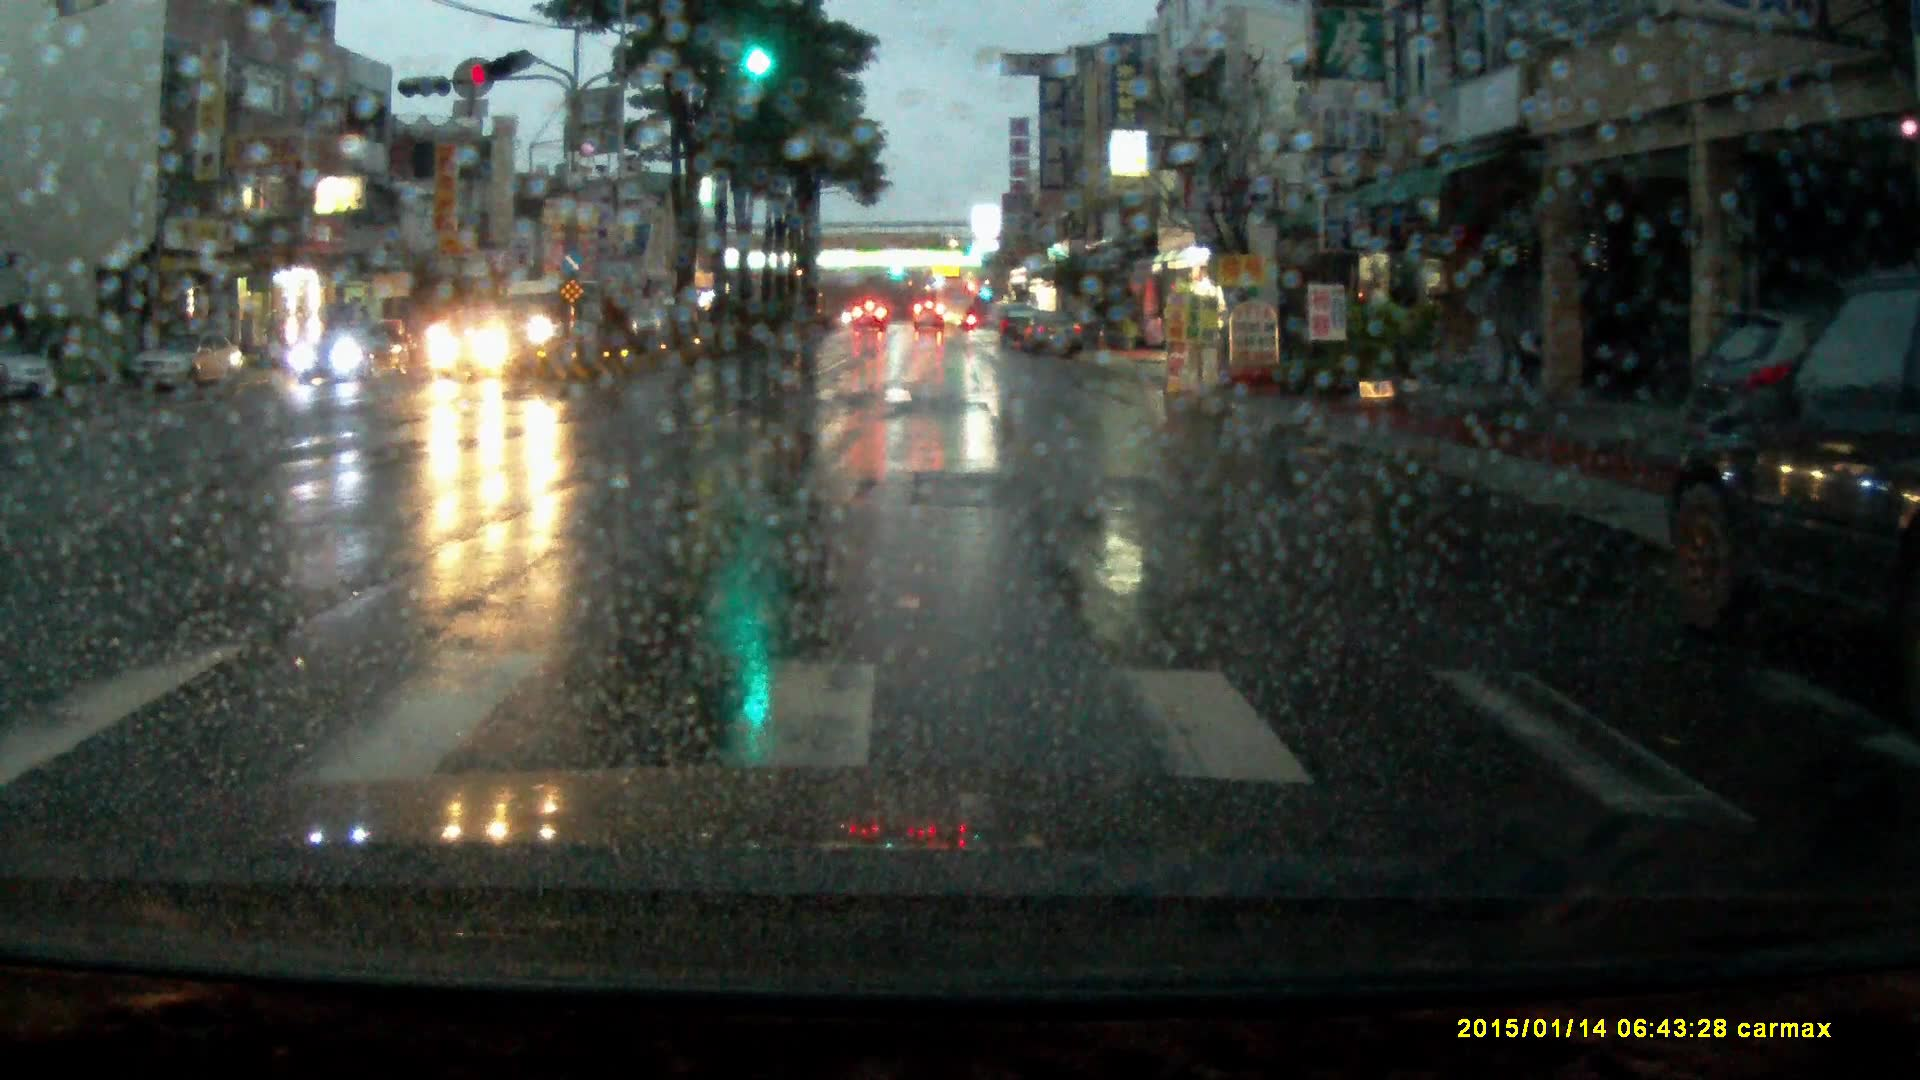vehicle: (1665, 284, 1920, 703), (1677, 309, 1829, 462), (484, 272, 603, 356), (125, 327, 244, 397), (286, 318, 415, 381), (429, 310, 538, 381), (1022, 309, 1088, 360), (1, 351, 54, 396), (939, 280, 977, 331), (998, 303, 1040, 349), (852, 297, 887, 331), (913, 299, 945, 334)
